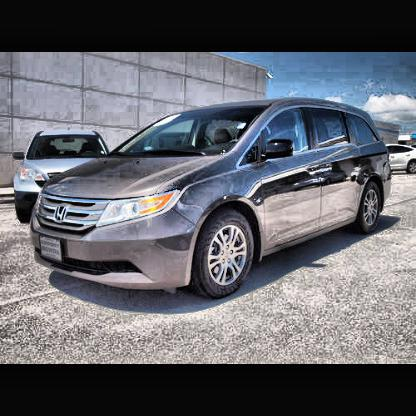Honda Odyssey Minivan 2012: (31, 99, 395, 300)
